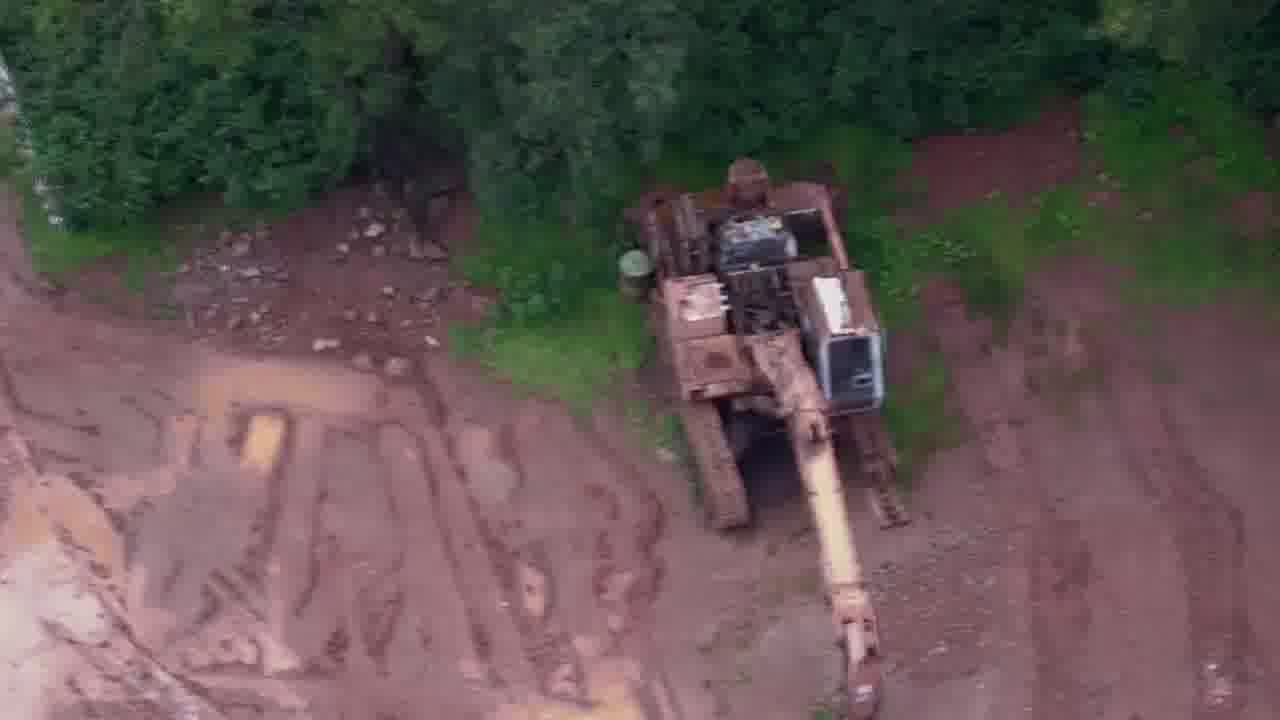HMV: (618, 142, 904, 713)
